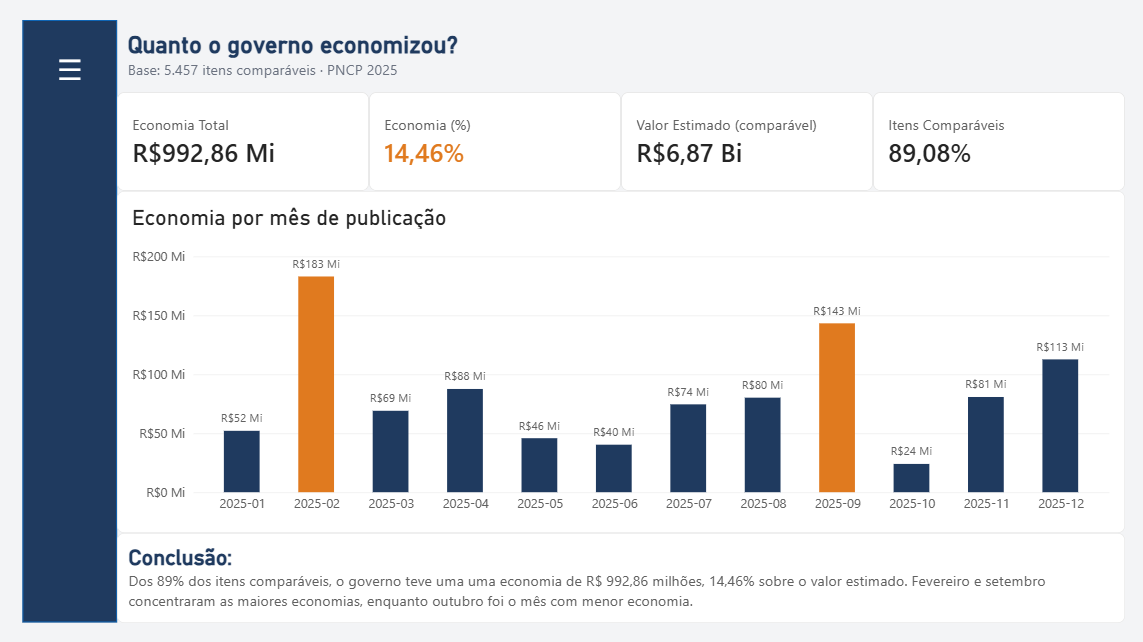

Layout of this report page (visuals, bound fields, positions):
{"tool":"powerbi","page":{"name":"1 Economia","canvas":[1280,720],"ordinal":1},"visuals":[{"type":"textbox","title":"Quanto o governo economizou?","box":[134,24,1120,80],"z":0},{"type":"shape","box":[27.9,23.6,105.1,669.3],"z":1000},{"type":"cardVisual","fields":{"Data":["_Medidas.Economia R$"]},"box":[134,104,280,110],"z":2000},{"type":"cardVisual","fields":{"Data":["_Medidas.Economia Pct"]},"box":[414,104,280,110],"z":3000},{"type":"cardVisual","fields":{"Data":["_Medidas.Valor Estimado Comparavel"]},"box":[694,104,280,110],"z":4000},{"type":"cardVisual","fields":{"Data":["_Medidas.Pct Itens Comparaveis"]},"box":[974,104,280,110],"z":5000},{"type":"clusteredColumnChart","title":"Economia por mês de publicação","fields":{"Category":["Calendario.Ano_Mes"],"Y":["_Medidas.Economia R$"]},"box":[134,214,1120,380],"z":6000},{"type":"textbox","title":"  Conclusão:","box":[134,594,1120,100],"z":7000},{"type":"actionButton","title":"Botão menu","box":[27.7,24.6,104.6,104.6],"z":8000}]}

Visuals, with their boxes in screenshot pixels (x1, y1, x2, y2), scaled from the page's 1280x720 canvas onto the 1143x642 screenshot:
"Quanto o governo economizou?" textbox: (120, 21, 1120, 93)
shape: (25, 21, 119, 618)
cardVisual - _Medidas.Economia R$: (120, 93, 370, 191)
cardVisual - _Medidas.Economia Pct: (370, 93, 620, 191)
cardVisual - _Medidas.Valor Estimado Comparavel: (620, 93, 870, 191)
cardVisual - _Medidas.Pct Itens Comparaveis: (870, 93, 1120, 191)
"Economia por mês de publicação" clusteredColumnChart: (120, 191, 1120, 530)
"  Conclusão:" textbox: (120, 530, 1120, 619)
"Botão menu" actionButton: (25, 22, 118, 115)
